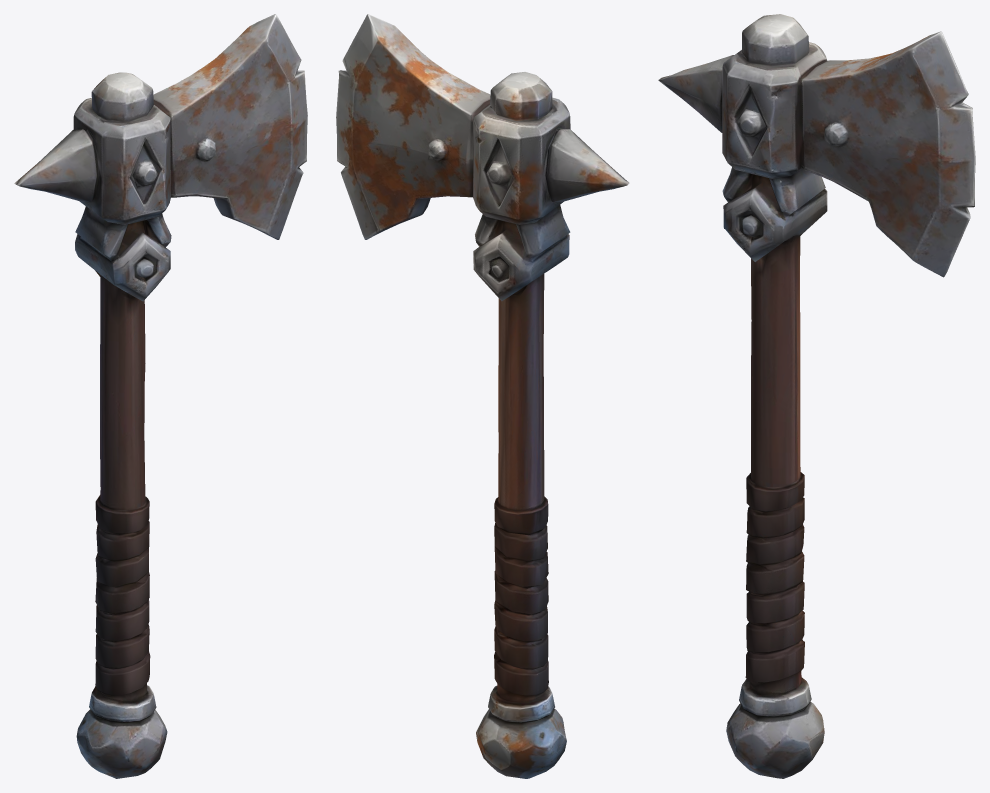
Rendered from w_rusty--axe.glb.
3 views of the same model, side by side, from view 1: azimuth 30°, elevation 25°; view 2: azimuth 150°, elevation 25°; view 3: azimuth 330°, elevation 25° (orthographic). The views are drawn at different scales.
Parts seen in each view (by area): view 1: Weapon; view 2: Weapon; view 3: Weapon.
Boxes of the visible parts, x1,y1,x2,y2 form: Weapon: (14, 14, 307, 778); Weapon: (336, 14, 629, 778); Weapon: (658, 14, 975, 778).
Bounding box in the file's own units: 0.4147 × 0.9808 × 0.1342.
Materials: 1 (1 with a texture image).
